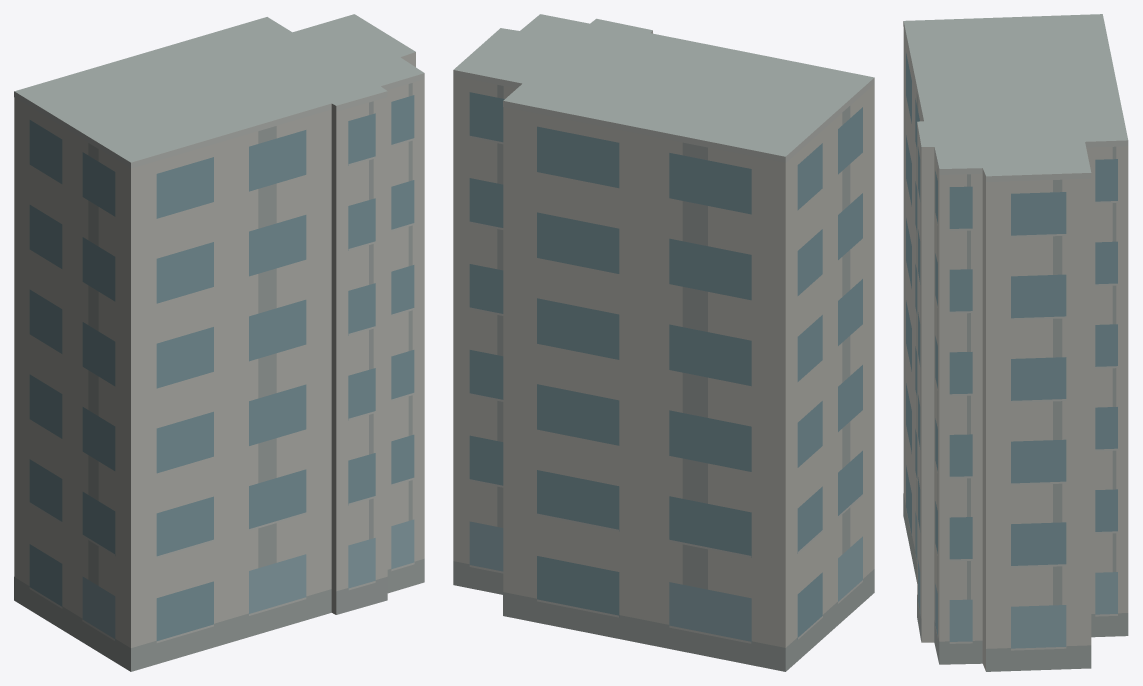
Rendered from survey-upis-32520963.glb.
The picture shows the model from 3 angles, left to right: view 1: azimuth 30°, elevation 25°; view 2: azimuth 150°, elevation 25°; view 3: azimuth 270°, elevation 25°; orthographic projection. The views are drawn at different scales.
Parts seen in each view (by area): view 1: survey-upis-32520963.tmp; view 2: survey-upis-32520963.tmp; view 3: survey-upis-32520963.tmp.
Boxes of the visible parts, <box> form: survey-upis-32520963.tmp: <box>14,14,424,671</box>; survey-upis-32520963.tmp: <box>453,14,874,671</box>; survey-upis-32520963.tmp: <box>903,14,1128,671</box>.
Bounding box in the file's own units: 14.27 × 20.3 × 8.35.
